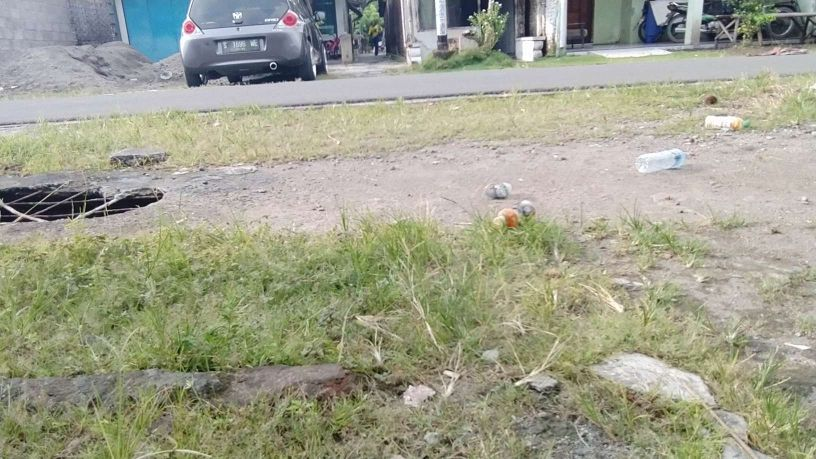botol: (476, 191, 544, 247), (624, 144, 698, 181), (697, 103, 753, 140)
